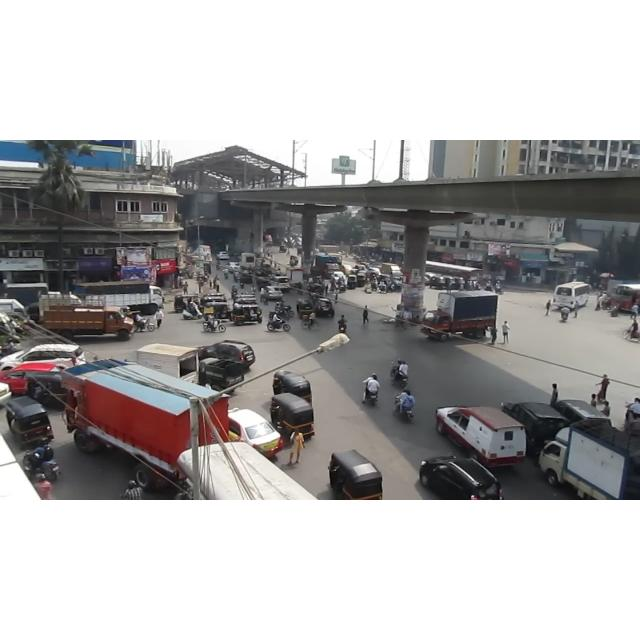auto: (327, 448, 389, 500), (7, 397, 57, 451), (270, 394, 318, 443), (273, 366, 318, 410), (234, 300, 266, 332), (205, 299, 235, 323), (172, 292, 202, 315), (298, 297, 314, 320)
truck: (62, 359, 228, 491), (538, 420, 640, 500), (37, 295, 135, 341), (421, 291, 499, 341), (74, 280, 164, 316), (136, 343, 200, 383), (239, 248, 261, 272), (380, 262, 402, 278), (286, 268, 304, 284)
